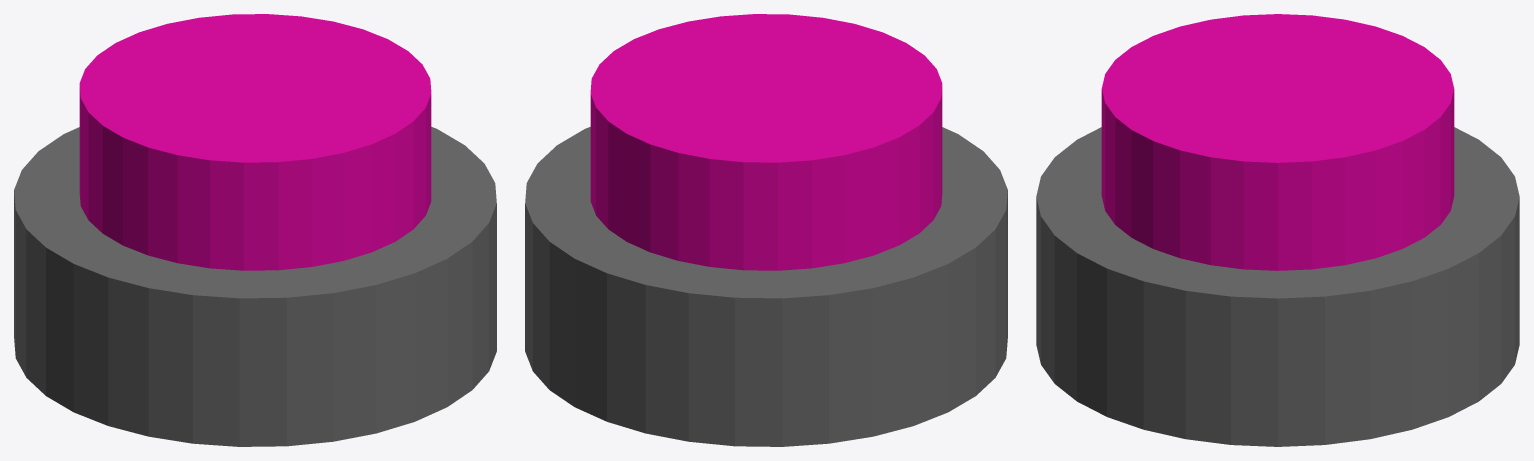
Rendered from PinkButton.glb.
3 views of the same model, side by side, from view 1: azimuth 30°, elevation 25°; view 2: azimuth 150°, elevation 25°; view 3: azimuth 270°, elevation 25° (orthographic).
Visible parts, largest first — view 1: Base, Button; view 2: Base, Button; view 3: Base, Button.
Part boxes in pixels (bbox=[...]): Base: bbox=[14, 127, 496, 446]; Button: bbox=[79, 14, 431, 270]; Base: bbox=[525, 127, 1007, 446]; Button: bbox=[590, 14, 942, 270]; Base: bbox=[1036, 127, 1519, 446]; Button: bbox=[1101, 14, 1454, 270].
Bounding box in the file's own units: 0.9081 × 0.5316 × 0.9081.
